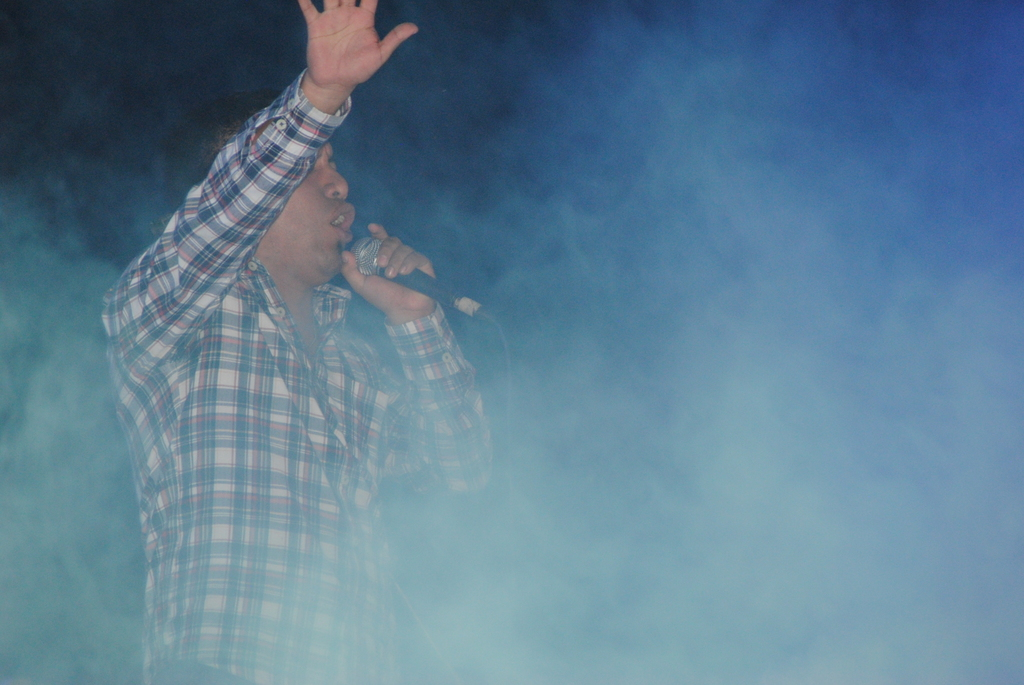Human_hand: (283, 7, 403, 104), (338, 222, 439, 328)
